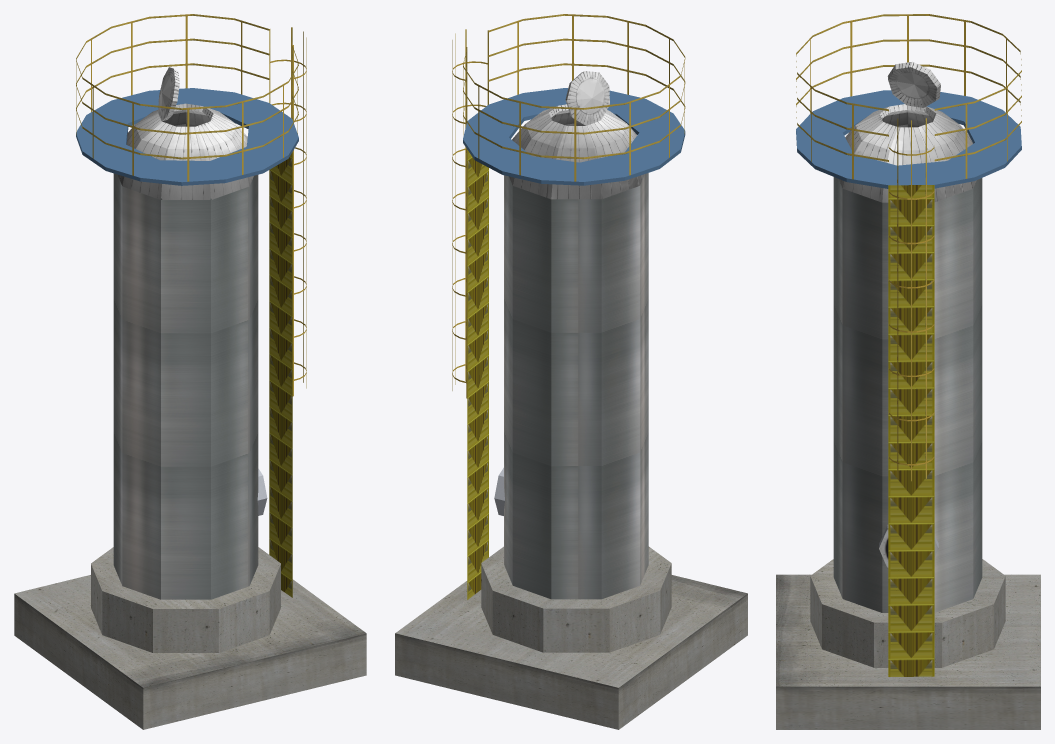
Rendered from Ref22re 1.fbx.
The picture shows the model from 3 angles, left to right: view 1: azimuth 30°, elevation 25°; view 2: azimuth 150°, elevation 25°; view 3: azimuth 270°, elevation 25°; orthographic projection. The views are drawn at different scales.
Visible parts, largest first — view 1: Refinery22_RE; view 2: Refinery22_RE; view 3: Refinery22_RE.
Part boxes in pixels (left/top/right/bottom): Refinery22_RE: left=14, top=14, right=366, bottom=729; Refinery22_RE: left=395, top=14, right=747, bottom=729; Refinery22_RE: left=776, top=14, right=1040, bottom=729.
Bounding box in the file's own units: 225 × 566 × 222.
